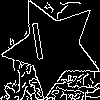I: (27, 22, 49, 70)
